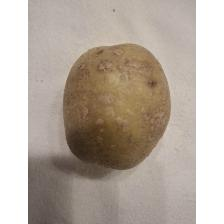Kartoffel: (60, 40, 174, 172)
